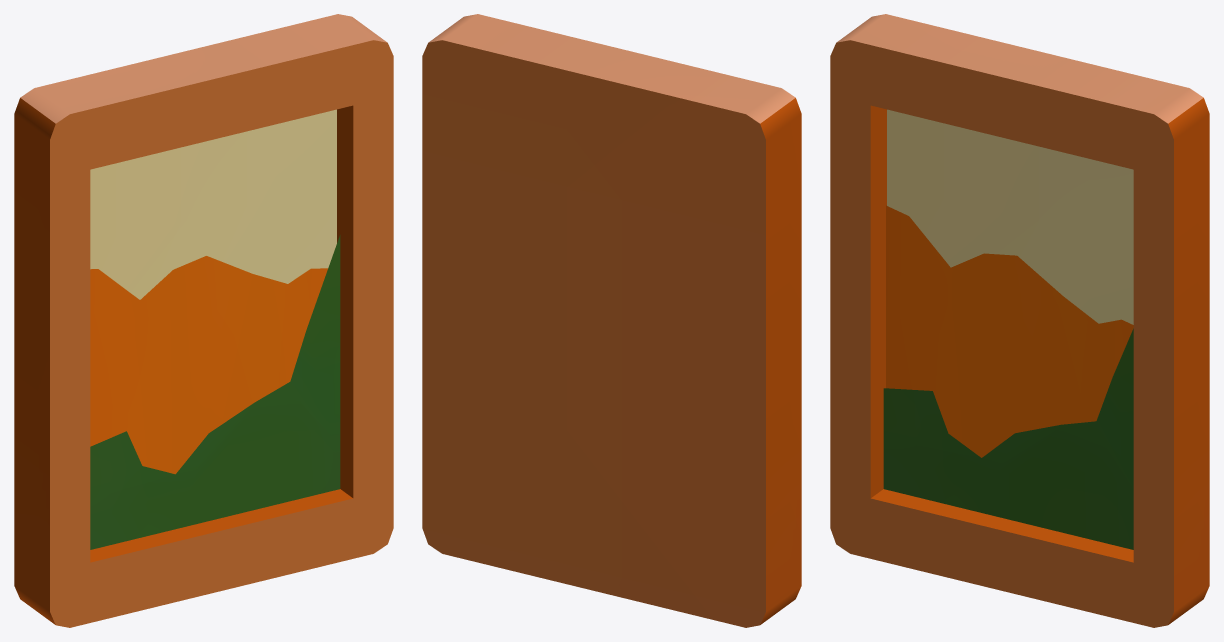
File: Picture.fbx
3 renders of one model, left to right at view 1: azimuth 30°, elevation 25°; view 2: azimuth 150°, elevation 25°; view 3: azimuth 330°, elevation 25°, orthographic.
Parts seen in each view (by area): view 1: Picture; view 2: Picture; view 3: Picture.
Part boxes in pixels (x1,y1,x2,y2): Picture: [14, 14, 393, 627]; Picture: [422, 14, 801, 627]; Picture: [830, 14, 1209, 627].
Size of the model in its own units: 76.39 by 109 by 13.73.
